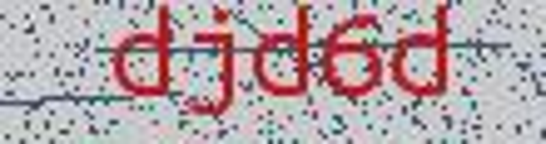6: (320, 4, 388, 105)
d: (390, 1, 464, 104), (247, 2, 318, 106), (110, 1, 175, 99)
j: (185, 1, 246, 127)
